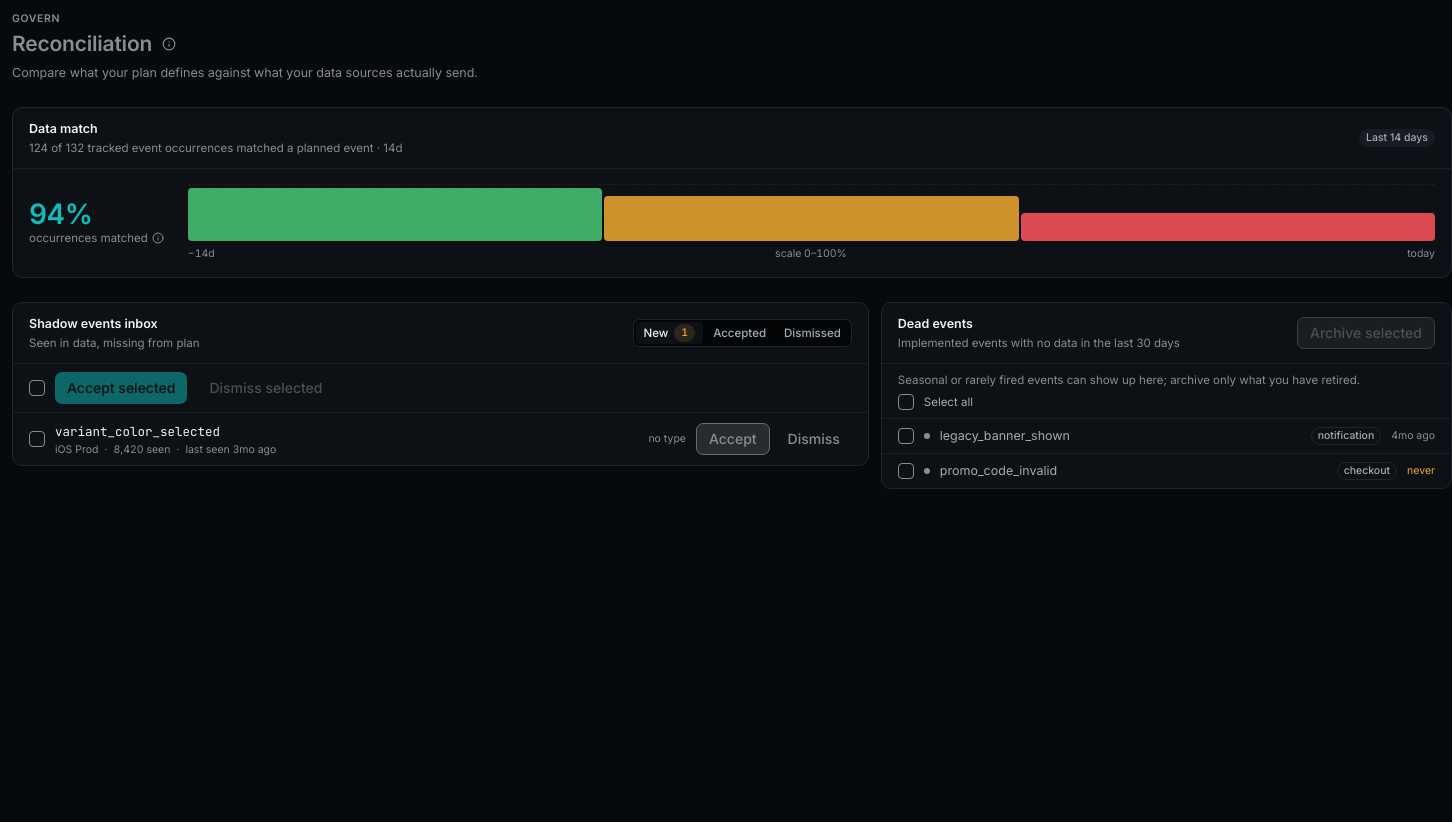
it: ReconciliationPage › switches shadow tabs to show the per-tab empty state
Check: the text "variant_color_selected" is shown, box [55, 423, 220, 440]
Click the button "Accepted". click: (740, 333)
box: [705, 322, 774, 344]
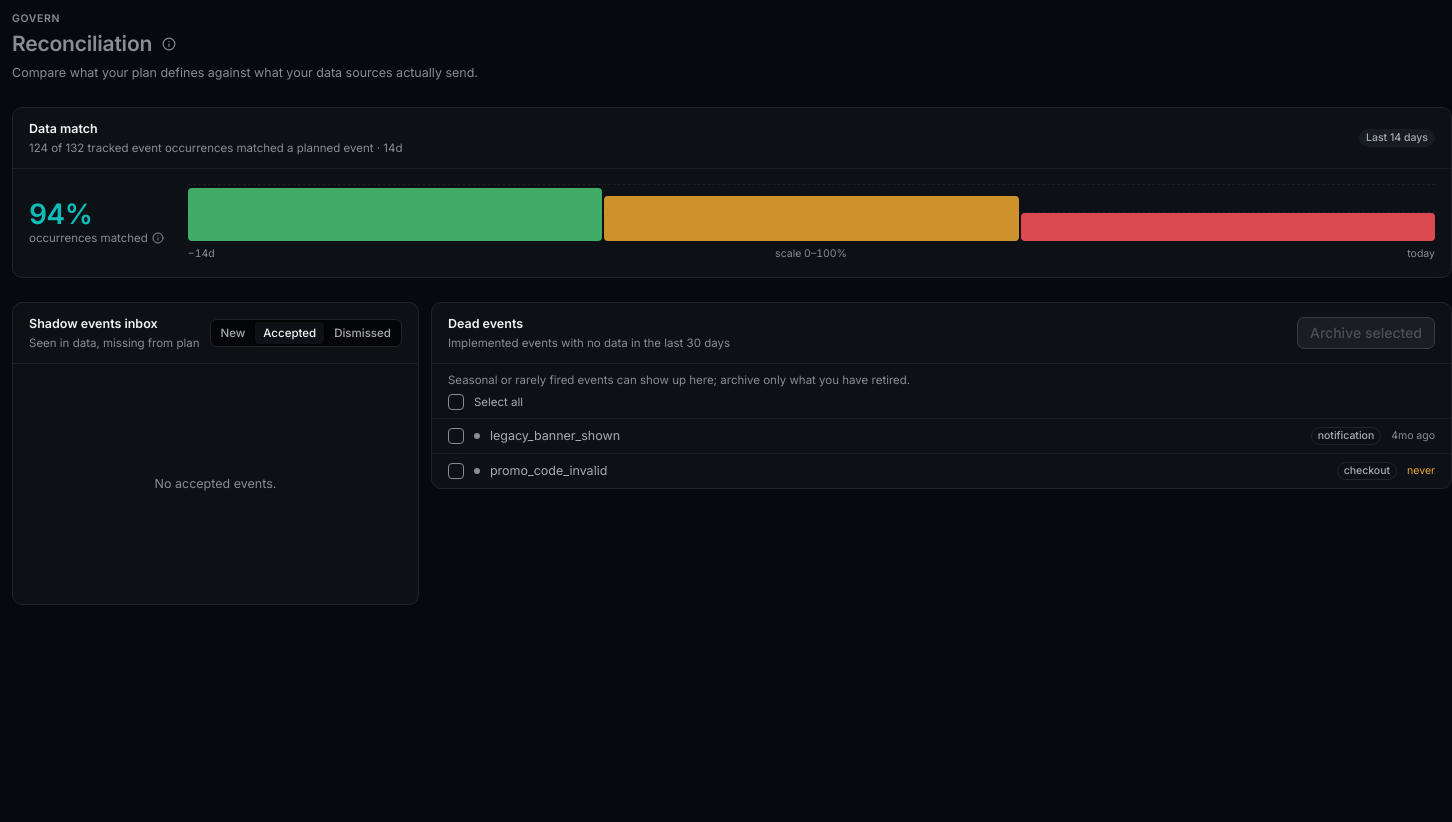
Check: the text "No accepted events." is shown, box [155, 476, 276, 491]
